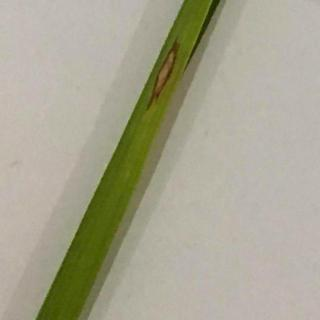Blast: (147, 45, 180, 106)
